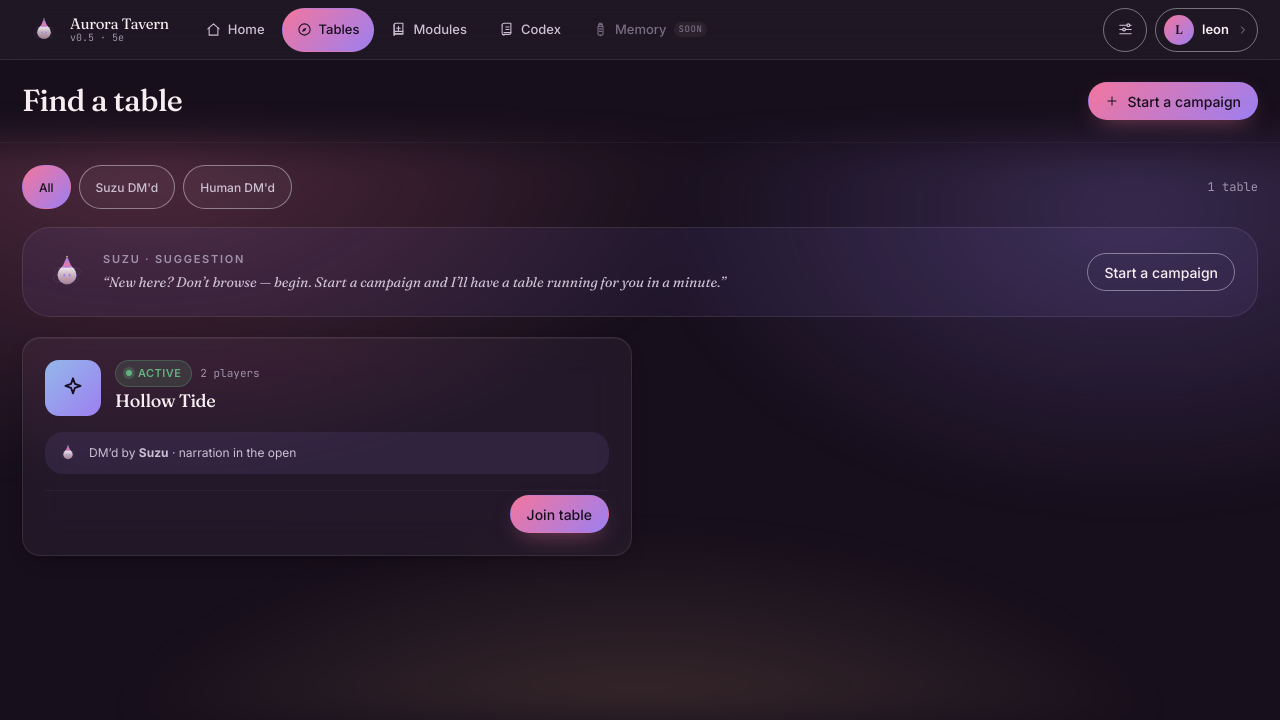
Test: JOIN-REASONS: a 409 character_in_use names the cause, and never says "try again"
Click the button with aria-label "join table: hollow tide". click: (559, 514)
box: [510,495,609,533]
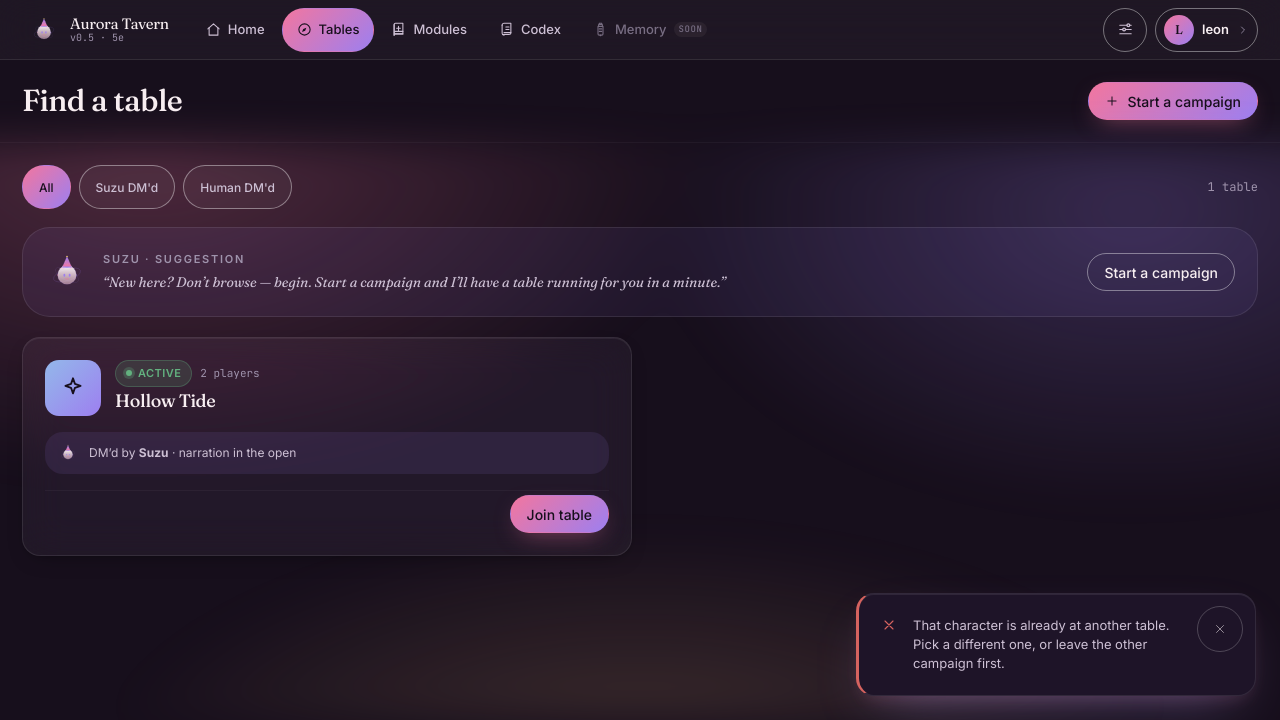
Expected: the text "already at another table" is shown, [913,618,1170,671]
